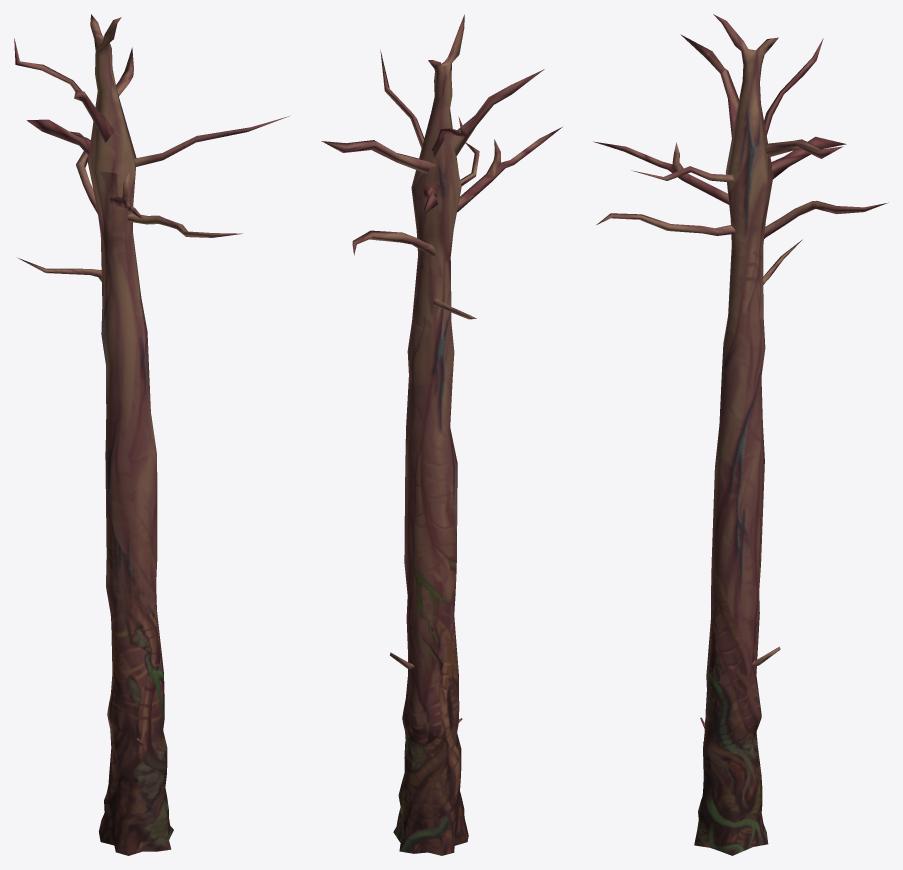
File: Tree_2.FBX
3 views of the same model, side by side, from view 1: azimuth 30°, elevation 25°; view 2: azimuth 150°, elevation 25°; view 3: azimuth 270°, elevation 25° (orthographic). The views are drawn at different scales.
Visible parts, largest first — view 1: Tree2; view 2: Tree2; view 3: Tree2.
Part boxes in pixels (x1,y1,x2,y2): Tree2: (14,14,290,855); Tree2: (321,14,562,855); Tree2: (593,14,888,855).
Size of the model in its own units: 247 by 1023 by 339.
